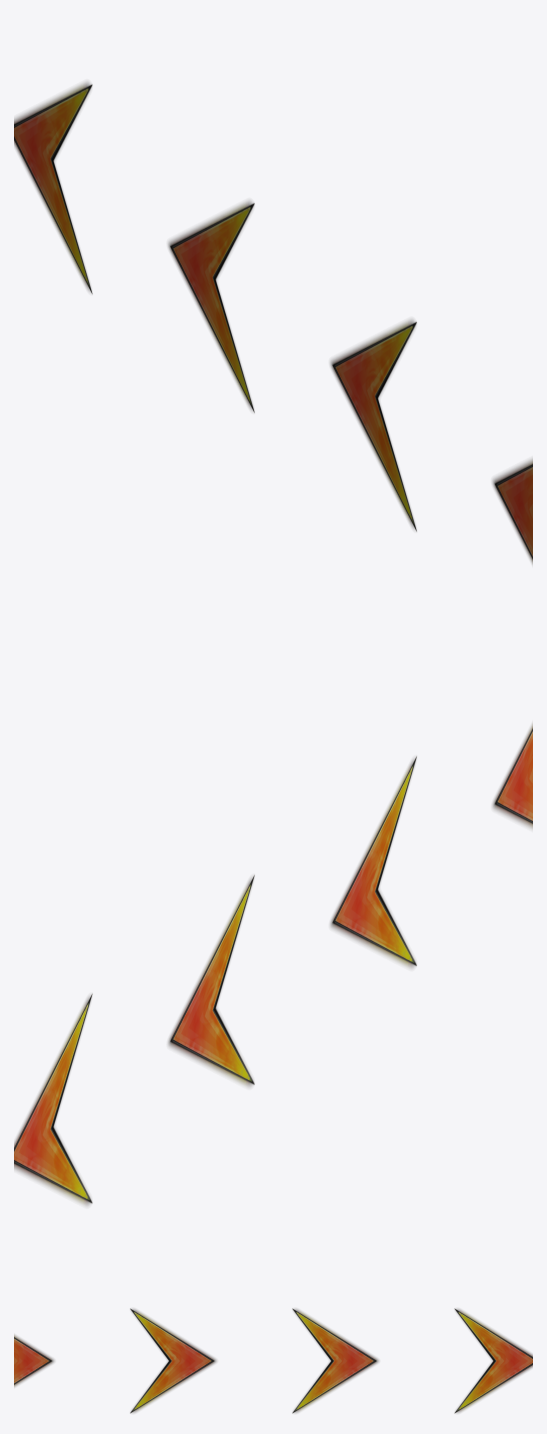
3 views of the same model, one above another, from view 1: azimuth 30°, elevation 25°; view 2: azimuth 150°, elevation 25°; view 3: azimuth 270°, elevation 25° (orthographic). The views are drawn at different scales.
Parts seen in each view (by area): view 1: zipper.png__; view 2: zipper.png__; view 3: zipper.png__.
Part boxes in pixels (x1,y1,x2,y2): zipper.png__: [14, 82, 532, 564]; zipper.png__: [14, 723, 532, 1205]; zipper.png__: [14, 1308, 532, 1413].
Size of the model in its own units: 2.38e-07 by 4 by 16.
Materials: 1 (1 with a texture image).
